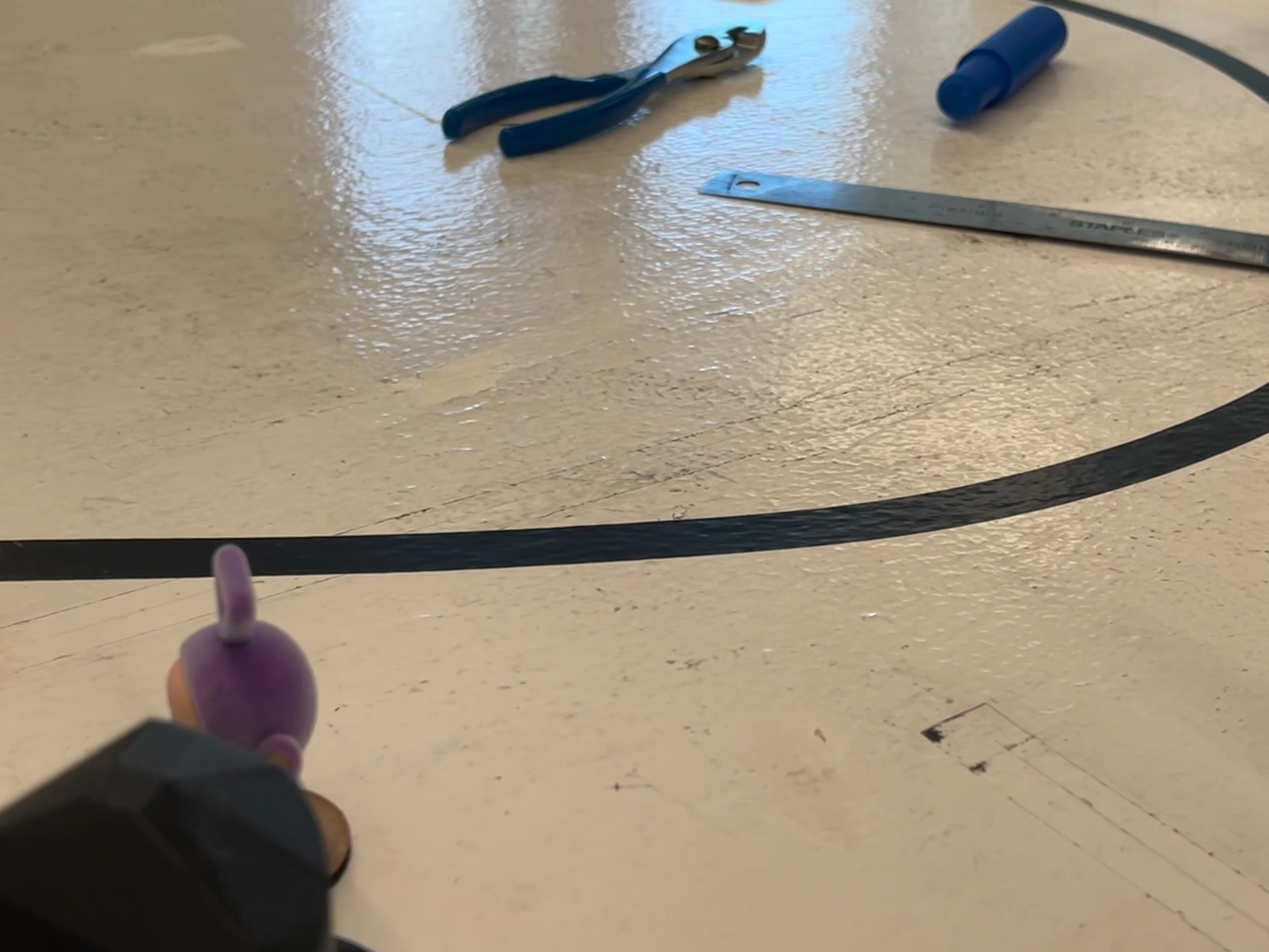teletubby: (167, 545, 317, 779)
